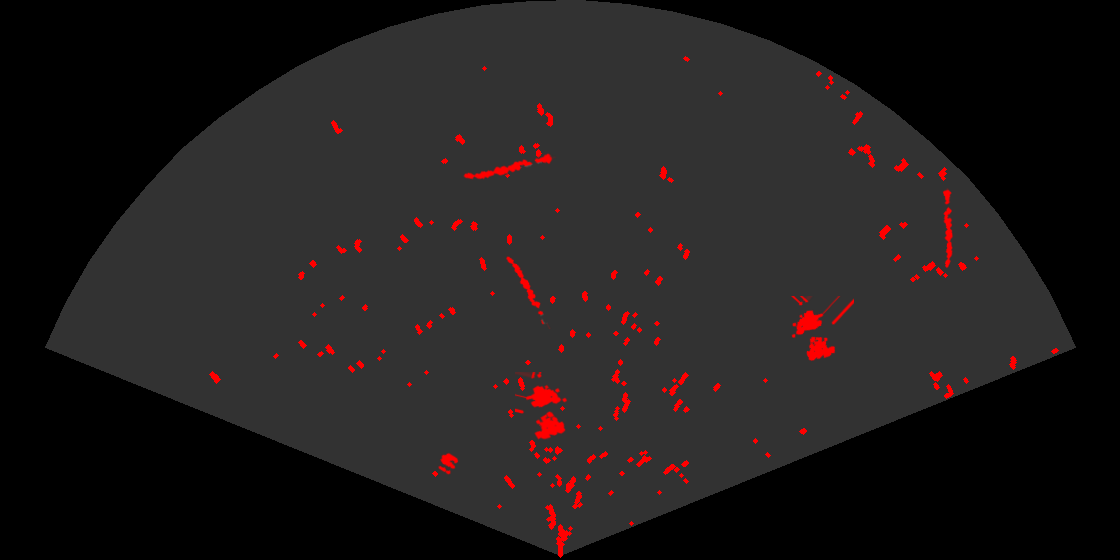ball: (437, 451, 460, 476)
cage: (789, 296, 854, 363), (515, 372, 569, 441)
chain: (505, 255, 552, 329), (461, 152, 557, 181), (941, 188, 955, 269)
